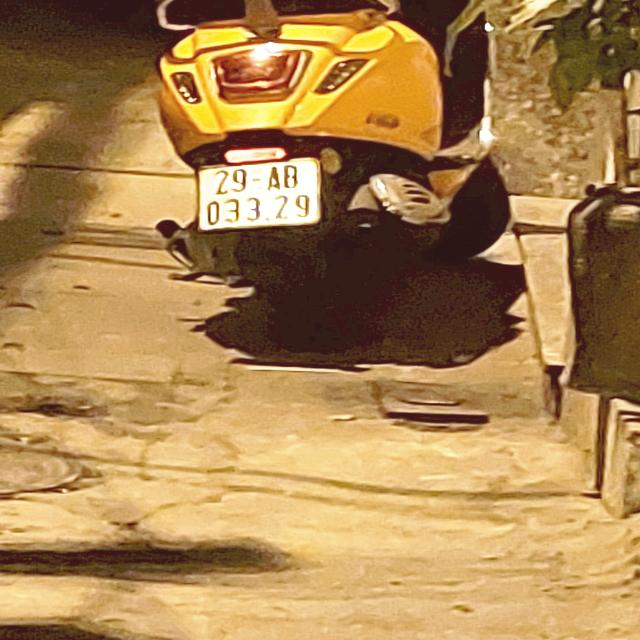license_plate: (199, 157, 319, 232)
